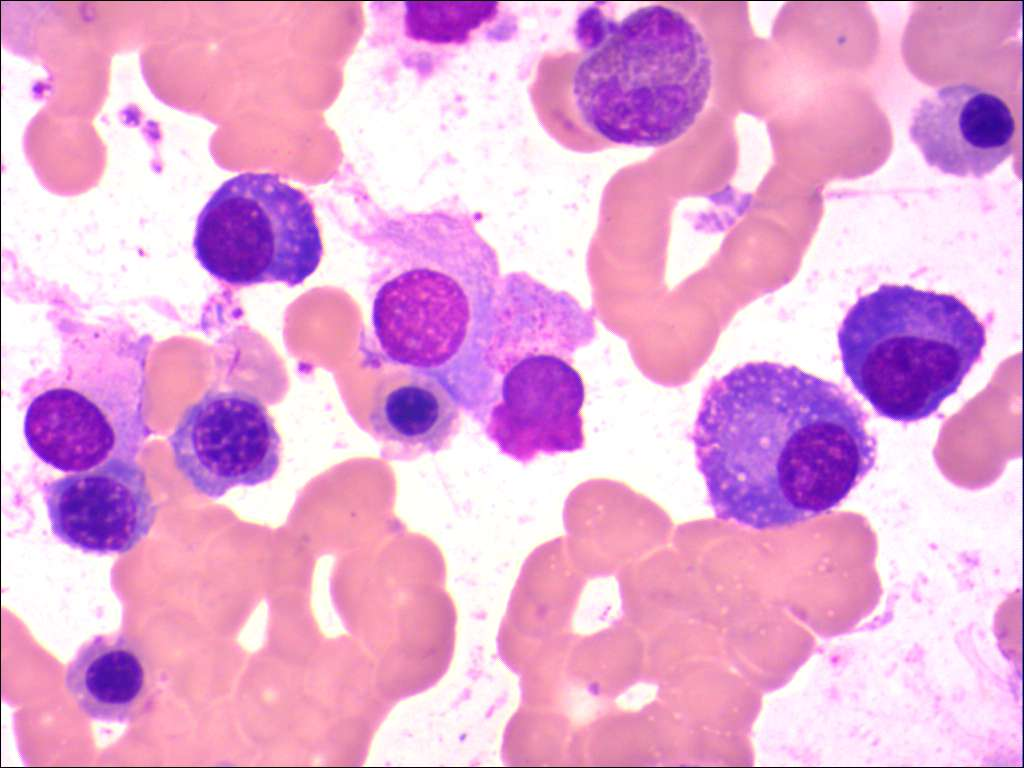23: (162, 386, 287, 501), (35, 455, 161, 560)
24: (906, 81, 1020, 184), (62, 628, 163, 729), (367, 370, 467, 467)
51: (835, 278, 989, 425), (189, 167, 326, 291)
52: (685, 358, 881, 534)
E4: (569, 1, 717, 151)
x: (347, 192, 501, 370), (478, 266, 600, 469), (16, 306, 151, 478)
